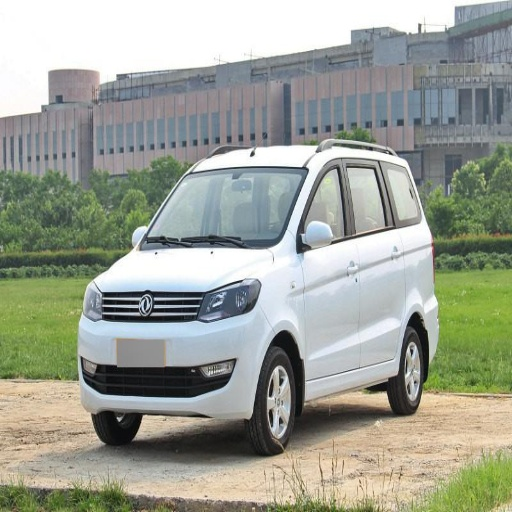front_bumper: (77, 291, 271, 417)
front_glass: (139, 169, 307, 248)
front_left_door: (298, 157, 361, 380)
